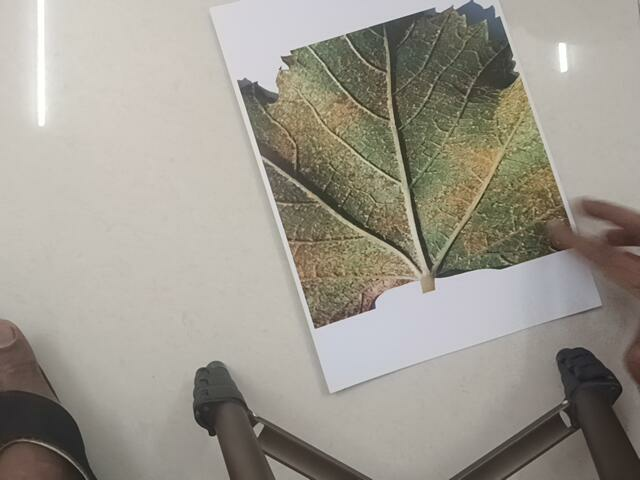Grape_Rust_Fungus: (237, 7, 579, 328)
